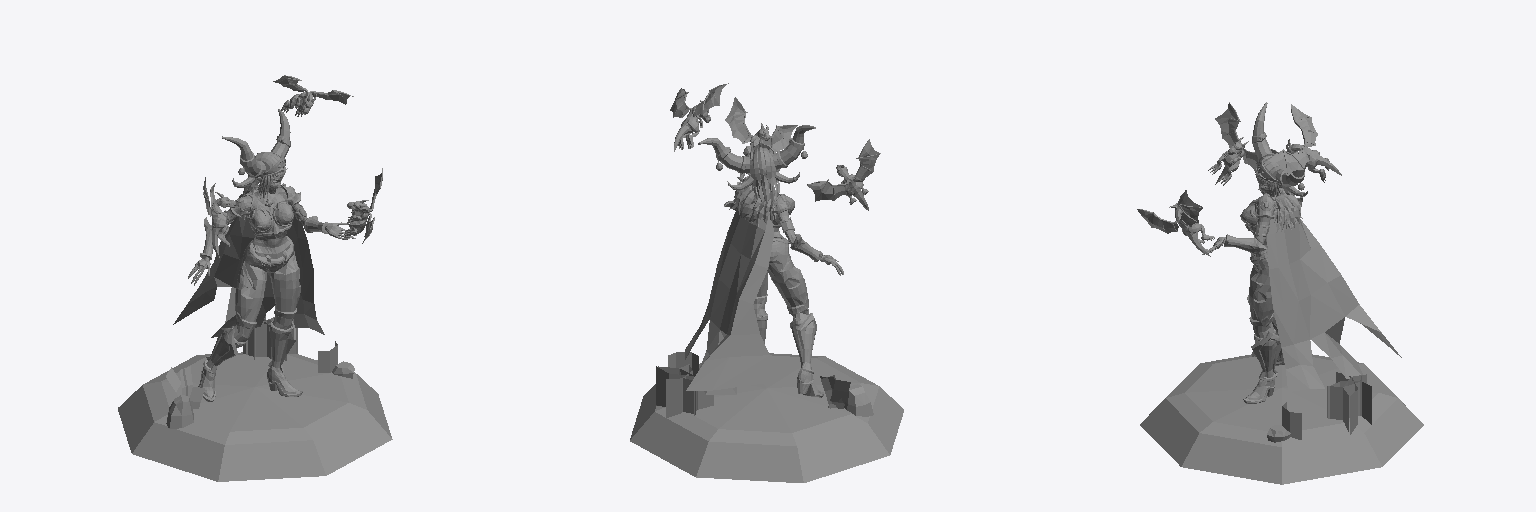
File: alex.obj
3 views of the same model, side by side, from view 1: azimuth 30°, elevation 25°; view 2: azimuth 150°, elevation 25°; view 3: azimuth 270°, elevation 25° (orthographic).
Parts seen in each view (by area): view 1: Cylinder001_Mesh.004, Object035_Mesh, Object036_Mesh.001, Object046_Mesh.006, dragon002_Mesh.003, dragon001_Mesh.002, dragon011_Mesh.007; view 2: Cylinder001_Mesh.004, Object035_Mesh, Object036_Mesh.001, Object046_Mesh.006, dragon001_Mesh.002, dragon002_Mesh.003, dragon011_Mesh.007; view 3: Cylinder001_Mesh.004, Object035_Mesh, Object036_Mesh.001, Object046_Mesh.006, dragon002_Mesh.003, dragon011_Mesh.007, dragon001_Mesh.002.
Boxes of the visible parts, x1,y1,x2,y2 form: Cylinder001_Mesh.004: [118, 316, 392, 481]; Object035_Mesh: [173, 183, 356, 337]; Object036_Mesh.001: [198, 205, 306, 401]; Object046_Mesh.006: [222, 109, 290, 201]; dragon002_Mesh.003: [273, 75, 353, 116]; dragon001_Mesh.002: [203, 177, 235, 258]; dragon011_Mesh.007: [345, 168, 382, 243]; Cylinder001_Mesh.004: [630, 352, 903, 482]; Object035_Mesh: [685, 161, 843, 394]; Object036_Mesh.001: [753, 217, 823, 397]; Object046_Mesh.006: [698, 125, 815, 202]; dragon001_Mesh.002: [807, 139, 880, 210]; dragon002_Mesh.003: [670, 83, 728, 151]; dragon011_Mesh.007: [725, 97, 797, 181]; Cylinder001_Mesh.004: [1140, 341, 1423, 484]; Object035_Mesh: [1202, 188, 1401, 391]; Object036_Mesh.001: [1243, 221, 1284, 403]; Object046_Mesh.006: [1252, 102, 1307, 196]; dragon002_Mesh.003: [1268, 104, 1341, 182]; dragon011_Mesh.007: [1137, 190, 1214, 256]; dragon001_Mesh.002: [1208, 102, 1277, 185].
Bounding box in the file's own units: 5.99 × 7.82 × 6.07.